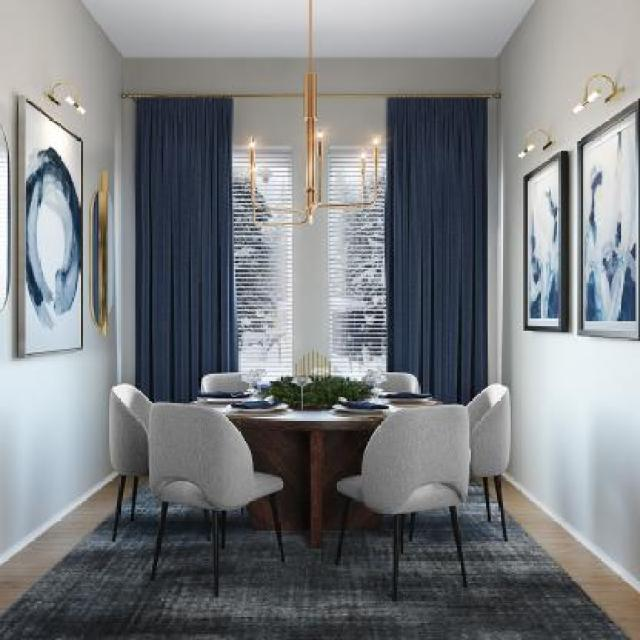floor: (0, 474, 640, 640)
